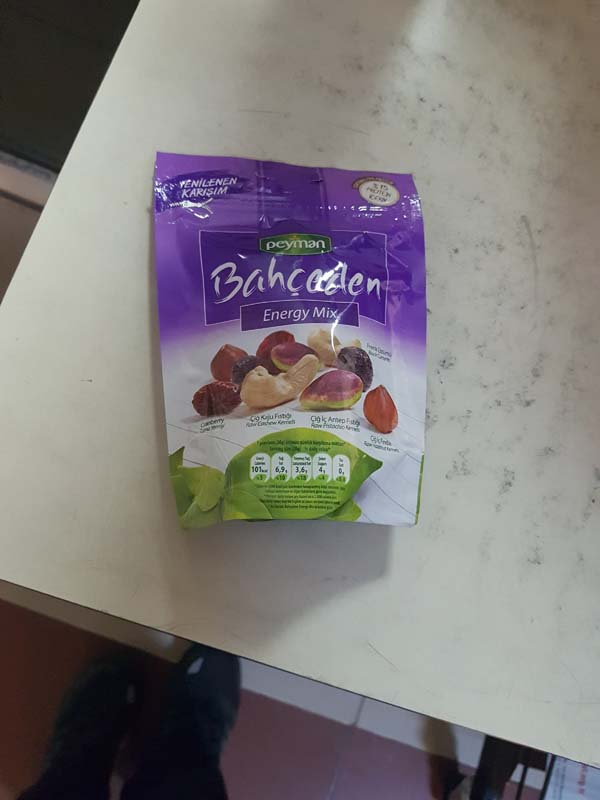bahcedenenergymix: (149, 142, 431, 532)
